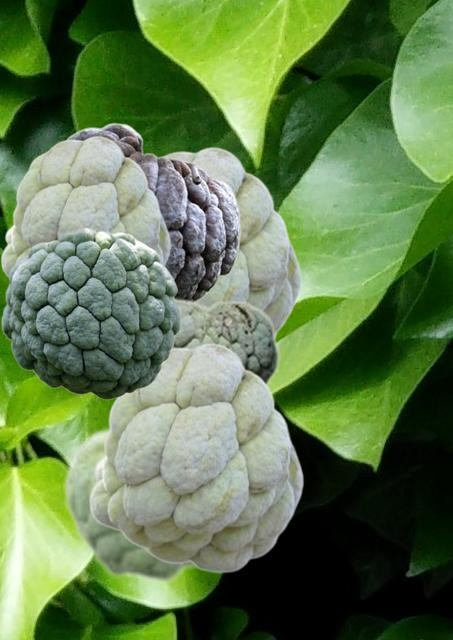atis: (88, 342, 303, 572), (66, 122, 240, 300), (1, 227, 180, 399), (164, 146, 301, 336), (0, 135, 170, 277), (61, 420, 203, 584), (174, 295, 279, 386)
